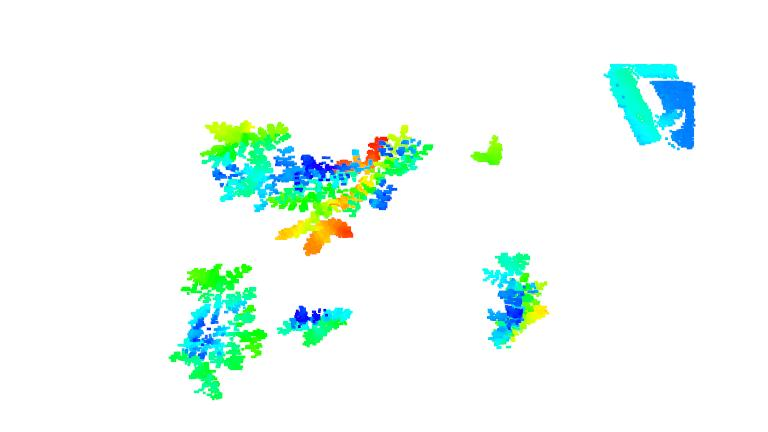chickpea: (169, 309, 277, 397), (473, 246, 552, 353), (283, 153, 360, 254), (199, 115, 284, 205), (361, 131, 435, 208), (177, 263, 262, 324), (279, 298, 360, 346), (472, 132, 509, 169)
